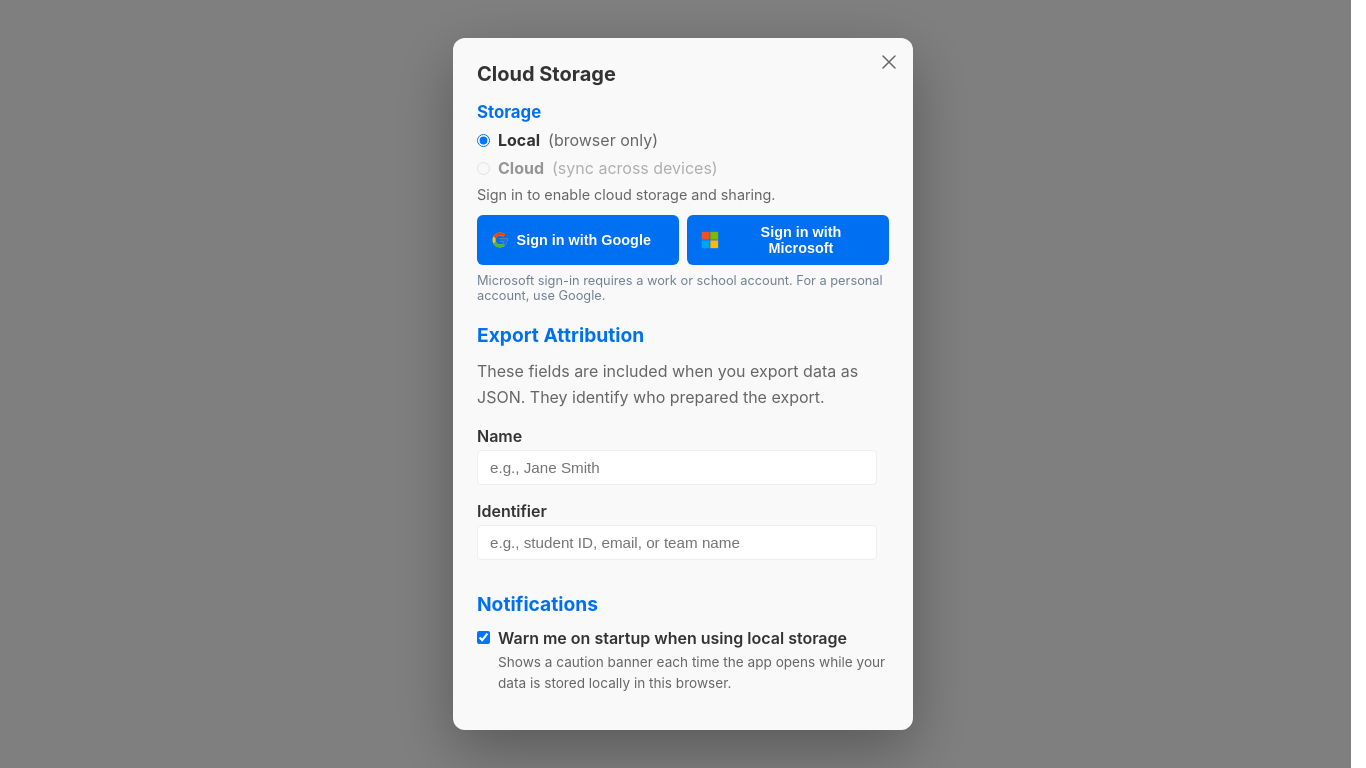
Test case: CloudStorageModal sign-in errors (real terms gate) › asks the user to allow pop-ups when the browser blocks the sign-in popup
What coordinates should you click on to do the following:
click the button "Sign in with Google"
I would click on:
 (578, 240)
Its box is [477, 215, 679, 265].
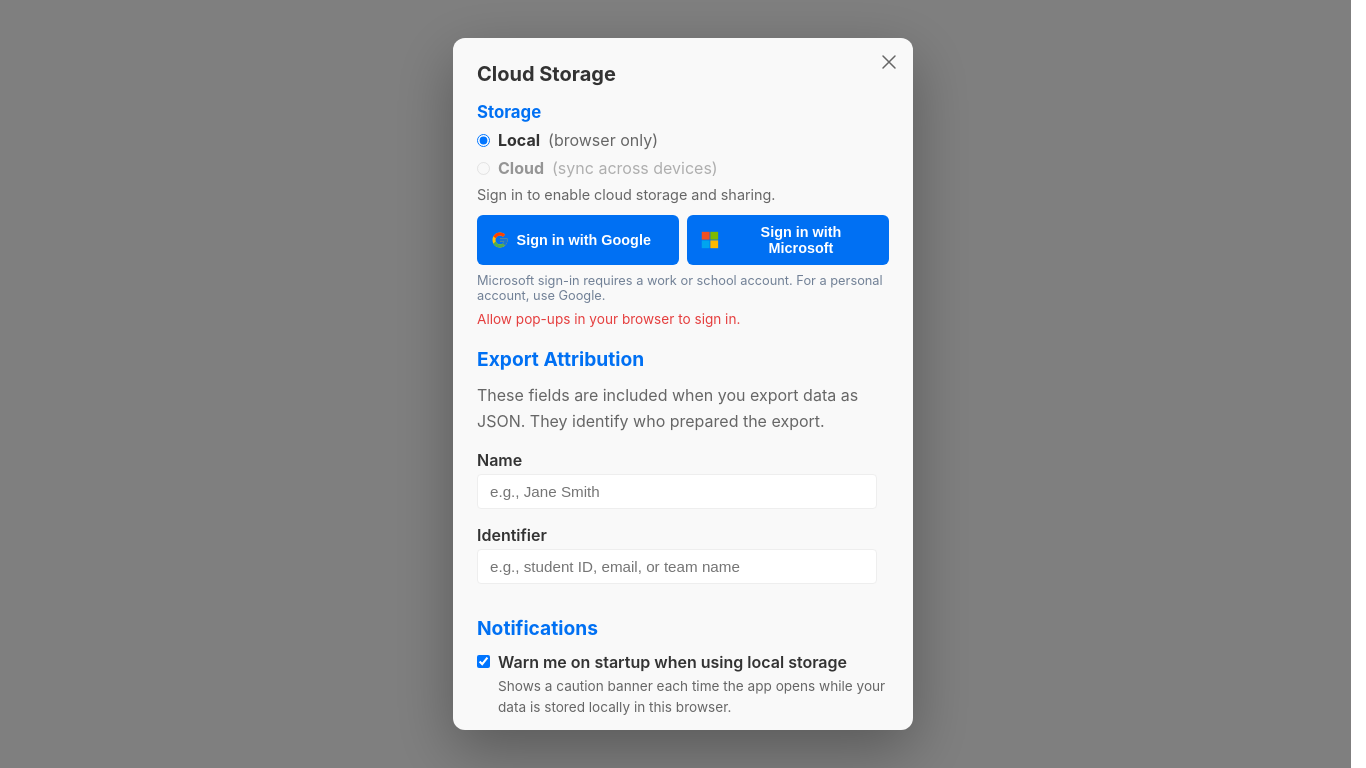
Check: the text "Allow pop-ups in your browser to sign in." is shown, box [477, 311, 740, 327]
